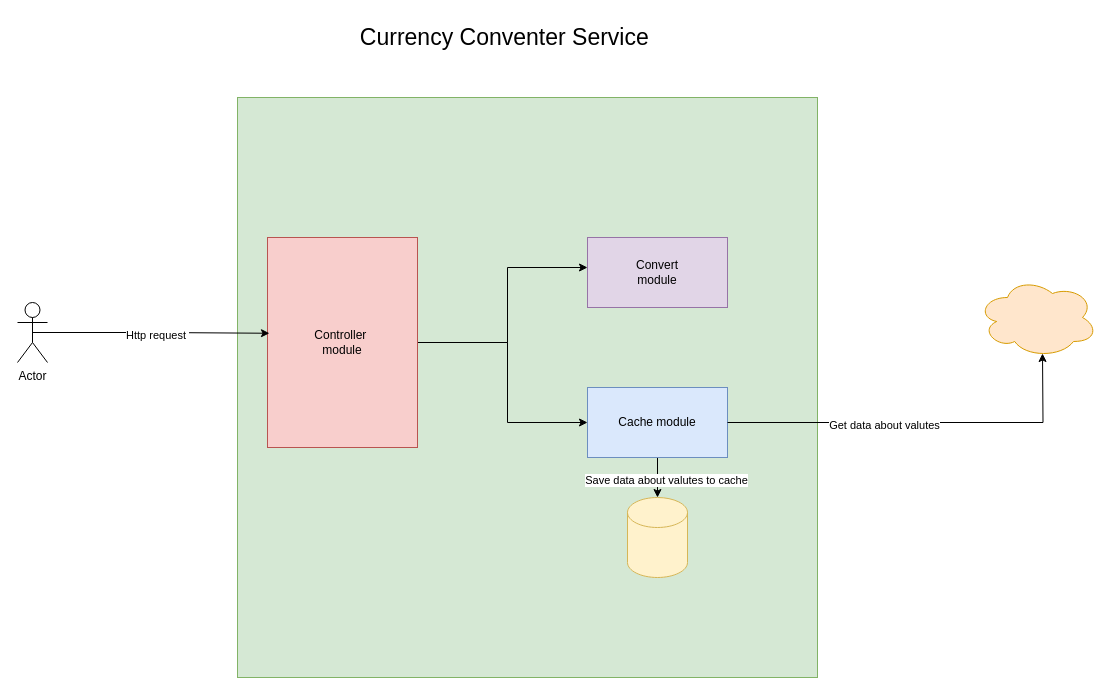
Some shapes in this 1115 by 695 pixel diagram are drawn without their labels. Here are the shapes that lost their labels. From the top down, the centre of each, then its label:
At pixel 1037 317: "cbr.ru".
At pixel 657 537: "spring cache".
